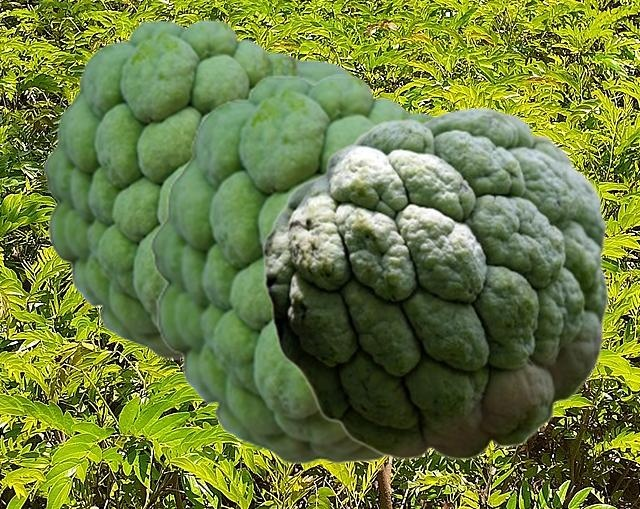atis: (261, 106, 609, 460), (149, 74, 438, 463), (42, 19, 353, 358)
